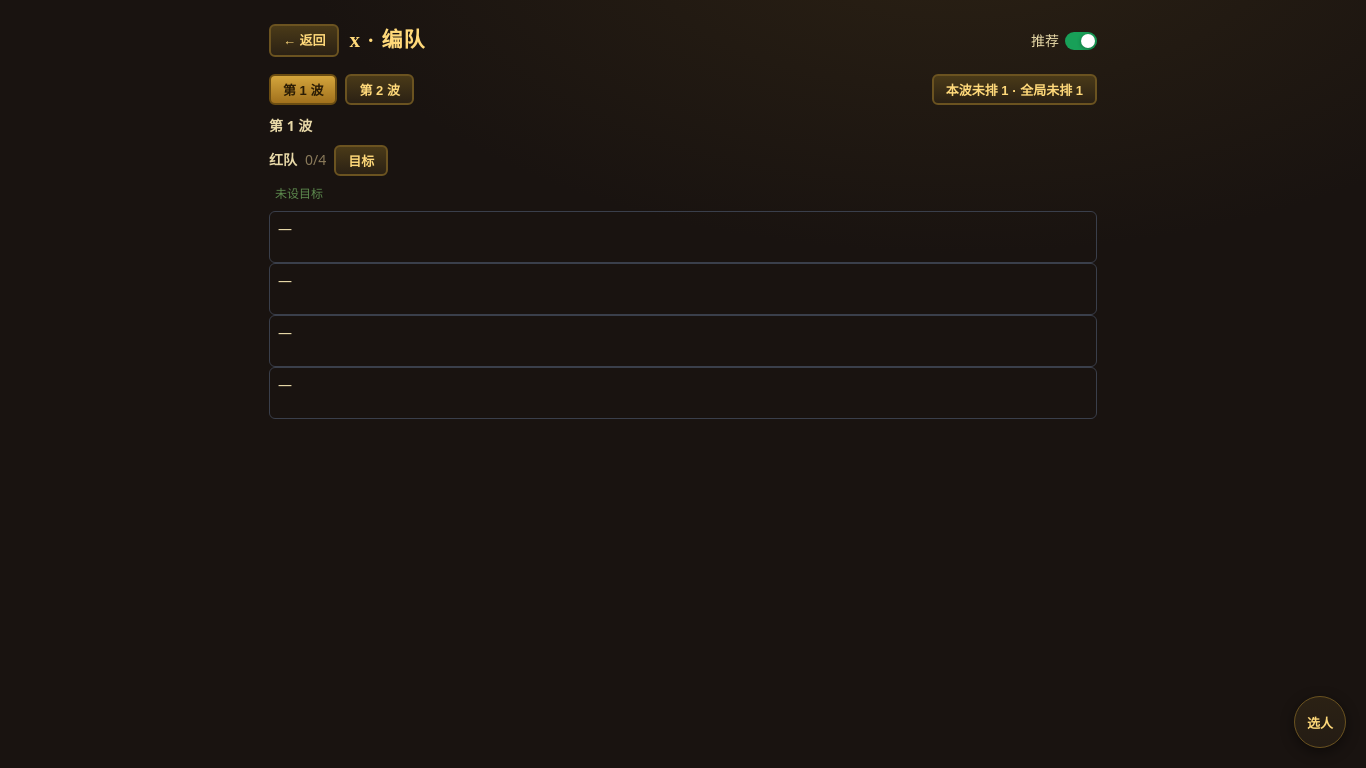
Test: RosterView › 波标签切换
Click the button with test id "wave-tab-2" at (380, 89), box [346,74,414,105]
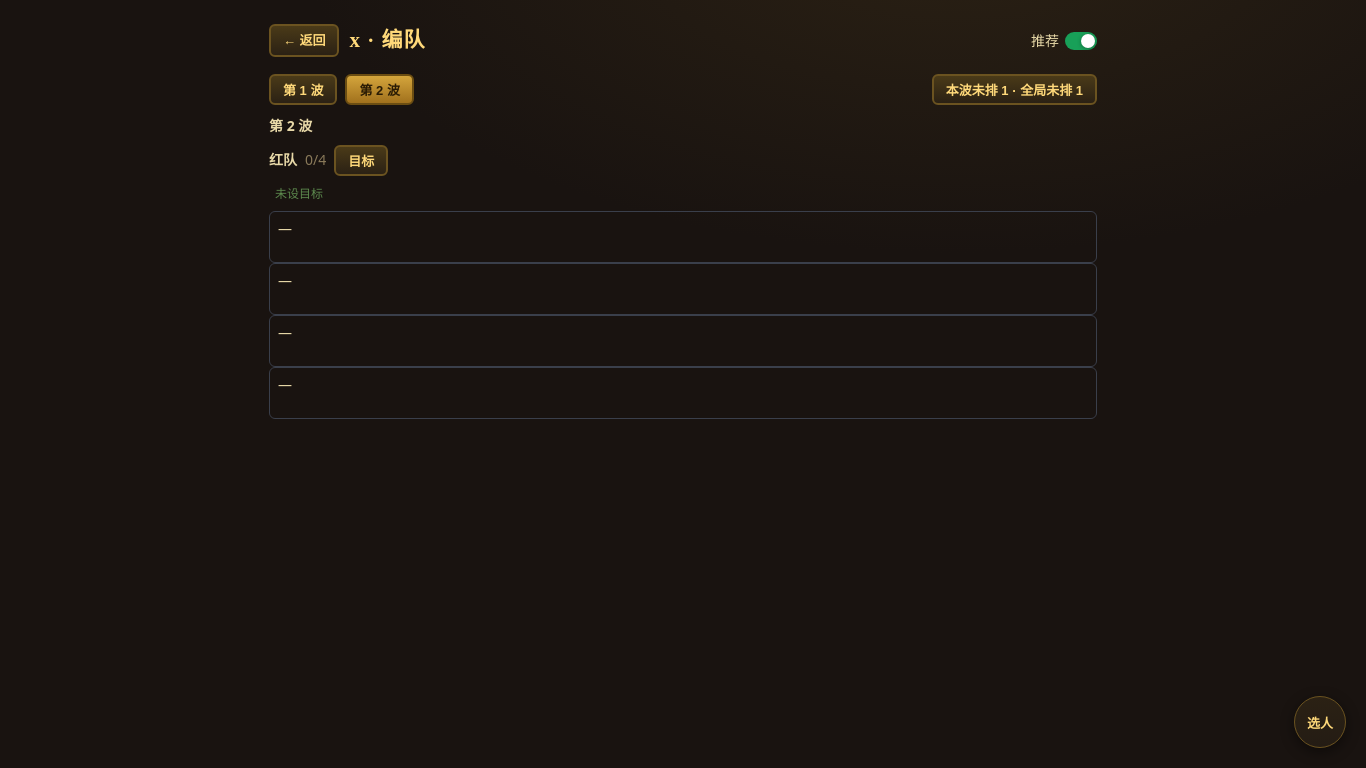
Expected: the text with class "roster-group-label" reads "第 2 波", [269,116,312,135]
